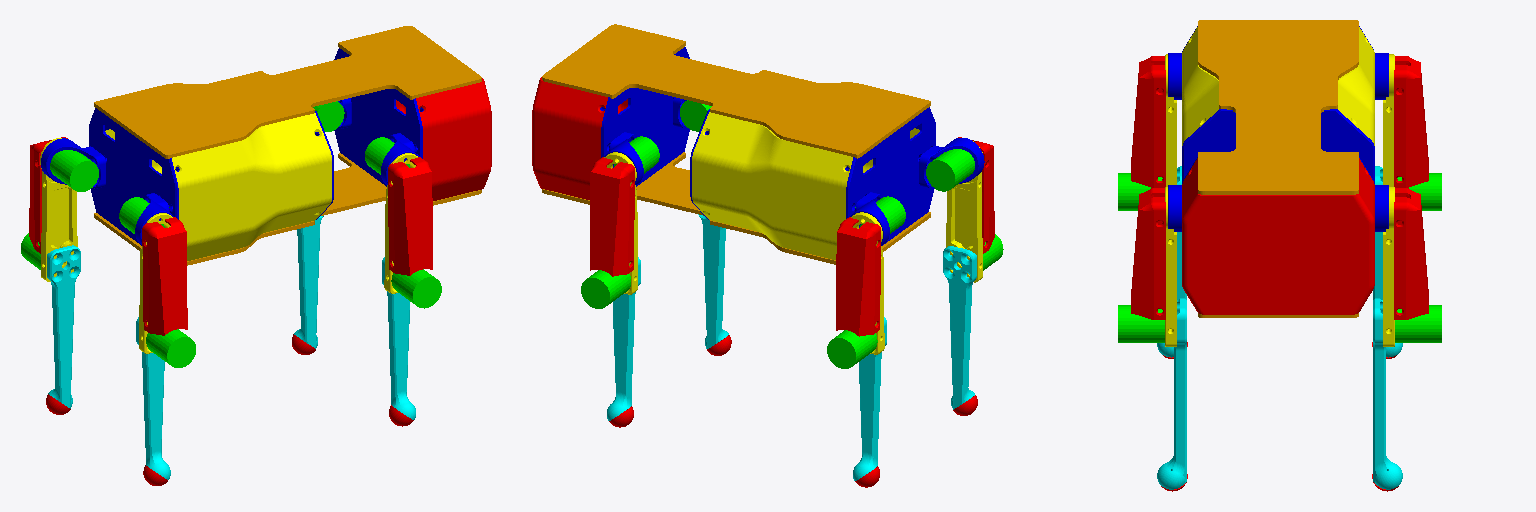
--- Facts derived from the render (not from the file) ---
3 views of the same robot in one strip: view 1: azimuth 30°, elevation 25°; view 2: azimuth 150°, elevation 25°; view 3: azimuth 270°, elevation 25° (orthographic).
Model pupper with 41 links and 40 joints (12 revolute, 28 fixed), rooted at bottom_PCB, posed all joints at 0.
Visible links, largest first — view 1: top_PCB, back_right_shroud, front_bulkhead, rear_bulkhead, back_right_cover, front_right_cover, middle_bulkhead_front, back_left_lower_link, bottom_PCB, back_left_upper_link, back_right_lower_link, front_right_lower_link (+13 smaller); view 2: top_PCB, back_left_shroud, front_bulkhead, rear_bulkhead, front_left_cover, back_left_cover, middle_bulkhead_front, back_right_lower_link, bottom_PCB, back_right_upper_link, front_left_lower_link, back_left_lower_link (+13 smaller); view 3: front_bulkhead, top_PCB, front_left_cover, front_right_cover, back_left_cover, back_right_cover, middle_bulkhead_rear, front_left_lower_link, front_right_lower_link, back_left_shroud, back_right_shroud, front_left_upper_link (+13 smaller).
Boxes of the visible links, bbox=[...] form: top_PCB: bbox=[94, 26, 481, 158]; back_right_shroud: bbox=[172, 113, 331, 260]; front_bulkhead: bbox=[396, 78, 491, 200]; rear_bulkhead: bbox=[89, 108, 179, 245]; back_right_cover: bbox=[142, 217, 187, 335]; front_right_cover: bbox=[388, 157, 432, 275]; middle_bulkhead_front: bbox=[334, 48, 423, 186]; back_left_lower_link: bbox=[47, 245, 80, 408]; bottom_PCB: bbox=[94, 153, 481, 265]; back_left_upper_link: bbox=[40, 138, 77, 281]; back_right_lower_link: bbox=[136, 317, 170, 479]; front_right_lower_link: bbox=[382, 257, 415, 419]; top_PCB: bbox=[542, 24, 930, 158]; back_left_shroud: bbox=[692, 112, 852, 259]; front_bulkhead: bbox=[532, 77, 627, 199]; rear_bulkhead: bbox=[845, 107, 935, 245]; front_left_cover: bbox=[590, 157, 634, 276]; back_left_cover: bbox=[836, 217, 880, 336]; middle_bulkhead_front: bbox=[600, 47, 689, 186]; back_right_lower_link: bbox=[943, 246, 976, 409]; bottom_PCB: bbox=[542, 152, 930, 264]; back_right_upper_link: bbox=[946, 141, 982, 282]; front_left_lower_link: bbox=[607, 257, 640, 420]; back_left_lower_link: bbox=[853, 317, 886, 480]; front_bulkhead: bbox=[1182, 158, 1374, 314]; top_PCB: bbox=[1198, 20, 1358, 194]; front_left_cover: bbox=[1394, 188, 1428, 319]; front_right_cover: bbox=[1131, 188, 1165, 319]; back_left_cover: bbox=[1394, 56, 1428, 187]; back_right_cover: bbox=[1131, 56, 1165, 187]; middle_bulkhead_rear: bbox=[1182, 109, 1374, 182]; front_left_lower_link: bbox=[1373, 298, 1402, 489]; front_right_lower_link: bbox=[1157, 298, 1186, 489]; back_left_shroud: bbox=[1338, 27, 1374, 145]; back_right_shroud: bbox=[1182, 27, 1218, 145]; front_left_upper_link: bbox=[1383, 187, 1394, 346].
Size in the robot's own frame: 0.2942 by 0.208 by 0.2472 metres.
Meshes: 14 distinct files referenced, 28 mesh visuals loaded (13 binary STL, 1 ASCII STL).

The robot description file, URDF, robot "pupper":
<?xml version="1.0" ?>
<!-- =================================================================================== -->
<!-- |    This document was autogenerated by xacro from pupper.urdf.xacro              | -->
<!-- |    EDITING THIS FILE BY HAND IS NOT RECOMMENDED                                 | -->
<!-- =================================================================================== -->
<robot name="pupper">
  <material name="red">
    <color rgba="1 0 0 1"/>
  </material>
  <material name="yellow">
    <color rgba="1 1 0 1"/>
  </material>
  <material name="blue">
    <color rgba="0 0 1 1"/>
  </material>
  <material name="green">
    <color rgba="0 1 0 1"/>
  </material>
  <material name="blueGreen">
    <color rgba="0 1 1 1"/>
  </material>
  <material name="pink">
    <color rgba="1 0 1 1"/>
  </material>
  <!-- Connect the plugin -->
  <gazebo>
    <plugin filename="libpupper_plugin.so" name="pupper_plugin"/>
  </gazebo>
  <!-- TODO: Get the correct mass and inertia on the feet -->
  <!-- ++++++++++++++++ -->
  <!-- ROBOT START HERE -->
  <!-- ++++++++++++++++ -->
  <!-- Base link of the robot -->
  <link name="bottom_PCB">
    <inertial>
      <mass value="0.024615598768704002"/>
      <inertia ixx="0.00016144503163729087" ixy="0.0" ixz="0.0" iyy="1.7324369411991874e-05" iyz="0.0" izz="0.0001787418708368233"/>
    </inertial>
    <visual name="bottom_PCB_visual">
      <geometry>
        <mesh filename="package://workstation/pupper_description/Pupper_STL/Body/PCB_Board.stl" scale="0.0254 0.0254 0.0254"/>
      </geometry>
    </visual>
    <collision name="bottom_PCB_collision">
      <geometry>
        <mesh filename="package://workstation/pupper_description/Pupper_STL/Body/PCB_Board.stl" scale="0.0254 0.0254 0.0254"/>
      </geometry>
    </collision>
  </link>
  <!-- Create Front bulkhead -->
  <link name="front_bulkhead">
    <inertial>
      <mass value="0.010506396000000001"/>
      <inertia ixx="1.022692356e-05" ixy="0.0" ixz="0.0" iyy="2.7748515648000003e-05" iyz="0.0" izz="3.1221326112000005e-05"/>
    </inertial>
    <visual>
      <material name="red"/>
      <geometry>
        <mesh filename="package://workstation/pupper_description/Pupper_STL/Body/part1_frontbulkhead.stl" scale="0.001 0.001 0.001"/>
      </geometry>
    </visual>
    <collision>
      <geometry>
        <mesh filename="package://workstation/pupper_description/Pupper_STL/Body/part1_frontbulkhead_simplified.dae" scale="0.001 0.001 0.001"/>
      </geometry>
    </collision>
  </link>
  <!-- Join Front Bulkhead with Base -->
  <joint name="front_bulkhead_to_base" type="fixed">
    <parent link="bottom_PCB"/>
    <child link="front_bulkhead"/>
    <origin rpy="1.570796326795 0 1.570796326795" xyz="-0.128 0.00 0.044"/>
  </joint>
  <!-- Create Middle Bulkhead -->
  <link name="middle_bulkhead_front">
    <inertial>
      <mass value="0.012366396"/>
      <inertia ixx="8.554681632e-06" ixy="0.0" ixz="0.0" iyy="1.897506528e-05" iyz="0.0" izz="2.7393755616000004e-05"/>
    </inertial>
    <visual name="middle_bulkhead_front_visual">
      <material name="blue"/>
      <geometry>
        <mesh filename="package://workstation/pupper_description/Pupper_STL/Body/part2_middlebulkhead1.stl" scale="0.001 0.001 0.001"/>
      </geometry>
    </visual>
    <collision name="middle_bulkhead_front_collision">
      <geometry>
        <mesh filename="package://workstation/pupper_description/Pupper_STL/Body/part2_middlebulkhead1_simplified.dae" scale="0.001 0.001 0.001"/>
      </geometry>
    </collision>
  </link>
  <!-- Join Middle Bulkhead to Base -->
  <joint name="middle_bulkhead_to_base_1" type="fixed">
    <parent link="bottom_PCB"/>
    <child link="middle_bulkhead_front"/>
    <origin rpy="1.570796326795 0 1.570796326795" xyz="-0.128 0.00 0.044"/>
  </joint>
  <!-- Create 2nd Middle Bulkhead -->
  <link name="middle_bulkhead_rear">
    <inertial>
      <mass value="0.012373464"/>
      <inertia ixx="8.15128632e-06" ixy="0.0" ixz="0.0" iyy="1.5096884928e-05" iyz="0.0" izz="2.3080296576e-05"/>
    </inertial>
    <visual name="middle_bulkhead_rear_visual">
      <material name="blue"/>
      <geometry>
        <mesh filename="package://workstation/pupper_description/Pupper_STL/Body/part3_middlebulkhead2.stl" scale="0.001 0.001 0.001"/>
      </geometry>
    </visual>
    <collision name="middle_bulkhead_rear_collision">
      <geometry>
        <mesh filename="package://workstation/pupper_description/Pupper_STL/Body/part3_middlebulkhead2_simplified.dae" scale="0.001 0.001 0.001"/>
      </geometry>
    </collision>
  </link>
  <!-- Join 2nd Bulkhead to Base -->
  <joint name="middle_bulkhead_to_base_2" type="fixed">
    <parent link="bottom_PCB"/>
    <child link="middle_bulkhead_rear"/>
    <origin rpy="1.570796326795 0 1.570796326795" xyz="-0.128 0.00 0.044"/>
  </joint>
  <!-- Create back right shroud -->
  <link name="back_right_shroud">
    <inertial>
      <mass value="0.0058404"/>
      <inertia ixx="1.1398658832000001e-05" ixy="0.0" ixz="0.0" iyy="7.916366832000001e-06" iyz="0.0" izz="3.9777933960000005e-06"/>
    </inertial>
    <visual name="back_right_shroud_visual">
      <material name="yellow"/>
      <geometry>
        <mesh filename="package://workstation/pupper_description/Pupper_STL/Body/part4_rightshroud.stl" scale="0.001 0.001 0.001"/>
      </geometry>
    </visual>
    <collision name="back_right_shroud_collision">
      <geometry>
        <mesh filename="package://workstation/pupper_description/Pupper_STL/Body/part4_rightshroud_simplified.dae" scale="0.001 0.001 0.001"/>
      </geometry>
    </collision>
  </link>
  <!-- Connect back right shroud to body -->
  <joint name="right_shroud_to_base" type="fixed">
    <parent link="bottom_PCB"/>
    <child link="back_right_shroud"/>
    <origin rpy="1.570796326795 0 1.570796326795" xyz="-0.128 0.00 0.044"/>
  </joint>
  <!-- Create back left shroud -->
  <link name="back_left_shroud">
    <inertial>
      <mass value="0.0058404"/>
      <inertia ixx="1.1398638744e-05" ixy="0.0" ixz="0.0" iyy="7.916371296e-06" iyz="0.0" izz="3.9777736800000005e-06"/>
    </inertial>
    <visual name="back_left_shroud_visual">
      <material name="yellow"/>
      <geometry>
        <mesh filename="package://workstation/pupper_description/Pupper_STL/Body/part5_leftshroud.stl" scale="0.001 0.001 0.001"/>
      </geometry>
    </visual>
    <collision name="back_left_shroud_collision">
      <material name="green"/>
      <geometry>
        <mesh filename="package://workstation/pupper_description/Pupper_STL/Body/part5_leftshroud_simplified.dae" scale="0.001 0.001 0.001"/>
      </geometry>
    </collision>
  </link>
  <!-- Join back left shroud to body -->
  <joint name="back_left_shroud_to_base" type="fixed">
    <parent link="bottom_PCB"/>
    <child link="back_left_shroud"/>
    <origin rpy="1.570796326795 0 1.570796326795" xyz="-0.128 0.00 0.044"/>
  </joint>
  <!-- Create rear bulkhead -->
  <link name="rear_bulkhead">
    <inertial>
      <mass value="0.012549792"/>
      <inertia ixx="8.688962472000001e-06" ixy="0.0" ixz="0.0" iyy="1.9400512752000002e-05" iyz="-6.655824e-09" izz="2.7950330112000003e-05"/>
    </inertial>
    <visual>
      <material name="blue"/>
      <geometry>
        <mesh filename="package://workstation/pupper_description/Pupper_STL/Body/part6_rearbulkhead.stl" scale="0.001 0.001 0.001"/>
      </geometry>
    </visual>
    <collision>
      <geometry>
        <mesh filename="package://workstation/pupper_description/Pupper_STL/Body/part6_rearbulkhead_simplified.dae" scale="0.001 0.001 0.001"/>
      </geometry>
    </collision>
  </link>
  <!-- Join rear bulkhead to body -->
  <joint name="rear_bulk_head_to_body" type="fixed">
    <parent link="bottom_PCB"/>
    <child link="rear_bulkhead"/>
    <origin rpy="1.570796326795 0 1.570796326795" xyz="-0.128 0.00 0.044"/>
  </joint>
  <!-- Create a bulk mass for the battery -->
  <link name="battery">
    <inertial>
      <mass value="0.228"/>
      <inertia ixx="6.796775e-05" ixy="0" ixz="0" iyy="0.00013779275" iyz="0" izz="0.00011637500000000002"/>
    </inertial>
    <visual name="battery_visual">
      <material name="pink"/>
      <geometry>
        <box size="0.07 0.035 0.0485"/>
      </geometry>
    </visual>
  </link>
  <!-- Connect battery to body -->
  <joint name="battery_to_body" type="fixed">
    <parent link="bottom_PCB"/>
    <child link="battery"/>
    <origin rpy="0 0 1.570796326795" xyz="-0.028 0.00 0.02425"/>
  </joint>
  <!-- Create top plate -->
  <link name="top_PCB">
    <inertial>
      <mass value="0.024615598768704002"/>
      <inertia ixx="0.00016144503163729087" ixy="0.0" ixz="0.0" iyy="1.7324369411991874e-05" iyz="0.0" izz="0.0001787418708368233"/>
    </inertial>
    <visual name="top_PCB_visual">
      <geometry>
        <mesh filename="package://workstation/pupper_description/Pupper_STL/Body/PCB_Board.stl" scale="0.0254 0.0254 0.0254"/>
      </geometry>
    </visual>
    <collision name="top_PCB_collision">
      <geometry>
        <mesh filename="package://workstation/pupper_description/Pupper_STL/Body/PCB_Board.stl" scale="0.0254 0.0254 0.0254"/>
      </geometry>
    </collision>
  </link>
  <!-- Joint top plate to body -->
  <joint name="top_PCB_to_base" type="fixed">
    <parent link="bottom_PCB"/>
    <child link="top_PCB"/>
    <origin rpy="0 0 0" xyz="0.00 0.00 0.087"/>
  </joint>
  <link name="front_left_hub">
    <inertial>
      <mass value="0.0026397120000000002"/>
      <inertia ixx="5.418957480000001e-07" ixy="0.0" ixz="1.6616942400000001e-07" iyy="5.47751772e-07" iyz="0.0" izz="4.2993230400000003e-07"/>
    </inertial>
    <visual name="front_left_hub_visual">
      <material name="blue"/>
      <geometry>
        <mesh filename="package://workstation/pupper_description/Pupper_STL/Leg/part1_hub.stl" scale="0.001 0.001 0.001"/>
      </geometry>
    </visual>
    <collision name="front_left_hub_collision">
      <geometry>
        <mesh filename="package://workstation/pupper_description/Pupper_STL/Leg/part1_hub_siplified.dae" scale="0.001 0.001 0.001"/>
      </geometry>
    </collision>
  </link>
  <link name="front_left_upper_link">
    <inertial>
      <mass value="0.005135088"/>
      <inertia ixx="5.2268046e-06" ixy="5.8305420000000006e-08" ixz="0.0" iyy="3.56244684e-07" iyz="0.0" izz="4.920666084e-06"/>
    </inertial>
    <visual name="front_left_upper_link_visual">
      <material name="yellow"/>
      <geometry>
        <mesh filename="package://workstation/pupper_description/Pupper_STL/Leg/part2_upperlink.stl" scale="0.001 0.001 0.001"/>
      </geometry>
    </visual>
    <collision name="front_left_upper_link_collision">
      <geometry>
        <mesh filename="package://workstation/pupper_description/Pupper_STL/Leg/part2_upperlink_simplified.dae" scale="0.001 0.001 0.001"/>
      </geometry>
    </collision>
  </link>
  <link name="front_left_cover">
    <inertial>
      <mass value="0.0023860080000000002"/>
      <inertia ixx="1.5880408440000002e-06" ixy="6.3907368e-08" ixz="2.604e-13" iyy="3.6889826400000003e-07" iyz="-8.928e-12" izz="1.4238727800000002e-06"/>
    </inertial>
    <visual name="front_left_cover_visual">
      <material name="red"/>
      <geometry>
        <mesh filename="package://workstation/pupper_description/Pupper_STL/Leg/part3_shroud.stl" scale="0.001 0.001 0.001"/>
      </geometry>
    </visual>
    <collision name="front_left_cover_collision">
      <geometry>
        <mesh filename="package://workstation/pupper_description/Pupper_STL/Leg/part3_shroud_simplified.dae" scale="0.001 0.001 0.001"/>
      </geometry>
    </collision>
  </link>
  <!-- Connect the covering to the upper link -->
  <joint name="front_left_shroud_to_leg" type="fixed">
    <parent link="front_left_upper_link"/>
    <child link="front_left_cover"/>
    <origin rpy="3.14159265359 0 0" xyz="0.007 0.085 0"/>
  </joint>
  <link name="front_left_lower_link">
    <inertial>
      <mass value="0.00489924"/>
      <inertia ixx="6.752526888e-06" ixy="-8.876552400000001e-08" ixz="7.420284000000001e-09" iyy="1.6278868800000002e-07" iyz="2.5021129200000004e-07" izz="6.810224088000001e-06"/>
    </inertial>
    <visual>
      <material name="blueGreen"/>
      <geometry>
        <mesh filename="package://workstation/pupper_description/Pupper_STL/Leg/part4_lowerlink.stl" scale="0.001 0.001 0.001"/>
      </geometry>
    </visual>
    <collision name="front_left_lower_link_collision">
      <geometry>
        <mesh filename="package://workstation/pupper_description/Pupper_STL/Leg/part4_lowerlink_simplified.dae" scale="0.001 0.001 0.001"/>
      </geometry>
    </collision>
  </link>
  <!-- Create the foot pad -->
  <link name="front_left_foot">
    <inertial>
      <mass value="0.003"/>
      <inertia ixx="1.0830000000000001e-07" ixy="0" ixz="0" iyy="1.0830000000000001e-07" iyz="0" izz="1.0830000000000001e-07"/>
    </inertial>
    <visual name="front_left_foot_visual">
      <material name="red"/>
      <geometry>
        <mesh filename="package://workstation/pupper_description/Pupper_STL/Leg/hemisphere.stl" scale="0.00026 0.00026 0.00026"/>
      </geometry>
    </visual>
    <collision name="front_left_foot_collision">
      <geometry>
        <mesh filename="package://workstation/pupper_description/Pupper_STL/Leg/hemisphere_simplified.dae" scale="0.00026 0.00026 0.00026"/>
      </geometry>
    </collision>
  </link>
  <gazebo reference="front_left_foot">
    <collision>
      <surface>
        <contact>
          <ode>
            <kp>1e15</kp>
            <kd>1e13</kd>
          </ode>
        </contact>
      </surface>
    </collision>
  </gazebo>
  <gazebo reference="front_left_lower_link">
    <collision>
      <surface>
        <contact>
          <ode>
            <min_depth>0.01</min_depth>
          </ode>
        </contact>
      </surface>
    </collision>
  </gazebo>
  <!-- Connect foot pad to lower link -->
  <joint name="front_left_foot_joint" type="fixed">
    <parent link="front_left_lower_link"/>
    <child link="front_left_foot"/>
    <origin rpy="1.570796326795 0 0.6853981633975" xyz="0 -0.11 0.009"/>
  </joint>
  <!-- kg -->
  <!-- Create the motor -->
  <link name="front_left_hip_motor">
    <inertial>
      <mass value="0.12"/>
      <inertia ixx="7.2e-6" ixy="0" ixz="0" iyy="1.11e-5" iyz="0" izz="1.11e-5"/>
    </inertial>
    <visual name="front_left_hip_visual">
      <material name="motorColor">
        <color rgba="0 1 0 1"/>
      </material>
      <geometry>
        <cylinder length="0.03" radius="0.012"/>
      </geometry>
    </visual>
    <collision name="front_left_hip_collision">
      <geometry>
        <cylinder length="0.03" radius="0.012"/>
      </geometry>
    </collision>
  </link>
  <!-- Rigidly attach to motor to it's parent -->
  <joint name="front_left_hip_fixed_joint" type="fixed">
    <parent link="bottom_PCB"/>
    <child link="front_left_hip_motor"/>
    <origin rpy="0 1.570796326795 0" xyz="0.091 0.045 0.041"/>
  </joint>
  <!-- Attach the child link through a revolute joint -->
  <joint name="front_left_hip_joint" type="revolute">
    <parent link="bottom_PCB"/>
    <!-- <parent link = "${name}_motor"/> -->
    <child link="front_left_hub"/>
    <origin rpy="-1.570796326795 0 0" xyz="0.054 0.045 0.041"/>
    <limit effort="1e6" lower="-1e10" upper="1e10" velocity="1e6"/>
    <dynamics damping="0.2" friction="0.3"/>
    <axis xyz="-1 0 0"/>
  </joint>
  <!-- implicitSpringDamper: prevent crashing when damping is set -->
  <!-- provideFeedback     : allows the joint to publish torque data -->
  <gazebo reference="front_left_hip_joint">
    <physics>
      <ode>
        <max_force>50</max_force>
      </ode>
    </physics>
    <provideFeedback>true</provideFeedback>
    <implicitSpringDamper>true</implicitSpringDamper>
  </gazebo>
  <gazebo reference="front_left_hub">
    <self_collide>false</self_collide>
  </gazebo>
  <!-- kg -->
  <!-- Create the motor -->
  <link name="front_left_shoulder_motor">
    <inertial>
      <mass value="0.12"/>
      <inertia ixx="7.2e-6" ixy="0" ixz="0" iyy="1.11e-5" iyz="0" izz="1.11e-5"/>
    </inertial>
    <visual name="front_left_shoulder_visual">
      <material name="motorColor">
        <color rgba="0 1 0 1"/>
      </material>
      <geometry>
        <cylinder length="0.03" radius="0.012"/>
      </geometry>
    </visual>
    <collision name="front_left_shoulder_collision">
      <geometry>
        <cylinder length="0.03" radius="0.012"/>
      </geometry>
    </collision>
  </link>
  <!-- Rigidly attach to motor to it's parent -->
  <joint name="front_left_shoulder_fixed_joint" type="fixed">
    <parent link="front_left_hub"/>
    <child link="front_left_shoulder_motor"/>
    <origin rpy="0 0 0" xyz="0 0 0.005"/>
  </joint>
  <!-- Attach the child link through a revolute joint -->
  <joint name="front_left_shoulder_joint" type="revolute">
    <parent link="front_left_hub"/>
    <!-- <parent link = "${name}_motor"/> -->
    <child link="front_left_upper_link"/>
    <origin rpy="0 -1.570796326795 0" xyz="0 0 0.022"/>
    <limit effort="1e6" lower="-1e10" upper="1e10" velocity="1e6"/>
    <dynamics damping="0.2" friction="0.3"/>
    <axis xyz="1 0 0"/>
  </joint>
  <!-- implicitSpringDamper: prevent crashing when damping is set -->
  <!-- provideFeedback     : allows the joint to publish torque data -->
  <gazebo reference="front_left_shoulder_joint">
    <physics>
      <ode>
        <max_force>50</max_force>
      </ode>
    </physics>
    <provideFeedback>true</provideFeedback>
    <implicitSpringDamper>true</implicitSpringDamper>
  </gazebo>
  <gazebo reference="front_left_upper_link">
    <self_collide>false</self_collide>
  </gazebo>
  <!-- kg -->
  <!-- Create the motor -->
  <link name="front_left_elbow_motor">
    <inertial>
      <mass value="0.12"/>
      <inertia ixx="7.2e-6" ixy="0" ixz="0" iyy="1.11e-5" iyz="0" izz="1.11e-5"/>
    </inertial>
    <visual name="front_left_elbow_visual">
      <material name="motorColor">
        <color rgba="0 1 0 1"/>
      </material>
      <geometry>
        <cylinder length="0.03" radius="0.012"/>
      </geometry>
    </visual>
    <collision name="front_left_elbow_collision">
      <geometry>
        <cylinder length="0.03" radius="0.012"/>
      </geometry>
    </collision>
  </link>
  <!-- Rigidly attach to motor to it's parent -->
  <joint name="front_left_elbow_fixed_joint" type="fixed">
    <parent link="front_left_upper_link"/>
    <child link="front_left_elbow_motor"/>
    <origin rpy="0 1.570796326795 0" xyz="0.023 0.082 0"/>
  </joint>
  <!-- Attach the child link through a revolute joint -->
  <joint name="front_left_elbow_joint" type="revolute">
    <parent link="front_left_upper_link"/>
    <!-- <parent link = "${name}_motor"/> -->
    <child link="front_left_lower_link"/>
    <origin rpy="0 -1.570796326795 3.14159265359" xyz="-0.006 0.08 0"/>
    <limit effort="1e6" lower="-1e10" upper="1e10" velocity="1e6"/>
    <dynamics damping="0.2" friction="0.3"/>
    <axis xyz="0 0 -1"/>
  </joint>
  <!-- implicitSpringDamper: prevent crashing when damping is set -->
  <!-- provideFeedback     : allows the joint to publish torque data -->
  <gazebo reference="front_left_elbow_joint">
    <physics>
      <ode>
        <max_force>50</max_force>
      </ode>
    </physics>
    <provideFeedback>true</provideFeedback>
    <implicitSpringDamper>true</implicitSpringDamper>
  </gazebo>
  <gazebo reference="front_left_lower_link">
    <self_collide>false</self_collide>
  </gazebo>
  <link name="back_left_hub">
    <inertial>
      <mass value="0.0026397120000000002"/>
      <inertia ixx="5.418957480000001e-07" ixy="0.0" ixz="1.6616942400000001e-07" iyy="5.47751772e-07" iyz="0.0" izz="4.2993230400000003e-07"/>
    </inertial>
    <visual name="back_left_hub_visual">
      <material name="blue"/>
      <geometry>
        <mesh filename="package://workstation/pupper_description/Pupper_STL/Leg/part1_hub.stl" scale="0.001 0.001 0.001"/>
      </geometry>
    </visual>
    <collision name="back_left_hub_collision">
      <geometry>
        <mesh filename="package://workstation/pupper_description/Pupper_STL/Leg/part1_hub_siplified.dae" scale="0.001 0.001 0.001"/>
      </geometry>
    </collision>
  </link>
  <link name="back_left_upper_link">
    <inertial>
      <mass value="0.005135088"/>
      <inertia ixx="5.2268046e-06" ixy="5.8305420000000006e-08" ixz="0.0" iyy="3.56244684e-07" iyz="0.0" izz="4.920666084e-06"/>
    </inertial>
    <visual name="back_left_upper_link_visual">
      <material name="yellow"/>
      <geometry>
        <mesh filename="package://workstation/pupper_description/Pupper_STL/Leg/part2_upperlink.stl" scale="0.001 0.001 0.001"/>
      </geometry>
    </visual>
    <collision name="back_left_upper_link_collision">
      <geometry>
        <mesh filename="package://workstation/pupper_description/Pupper_STL/Leg/part2_upperlink_simplified.dae" scale="0.001 0.001 0.001"/>
      </geometry>
    </collision>
  </link>
  <link name="back_left_cover">
    <inertial>
      <mass value="0.0023860080000000002"/>
      <inertia ixx="1.5880408440000002e-06" ixy="6.3907368e-08" ixz="2.604e-13" iyy="3.6889826400000003e-07" iyz="-8.928e-12" izz="1.4238727800000002e-06"/>
    </inertial>
    <visual name="back_left_cover_visual">
      <material name="red"/>
      <geometry>
        <mesh filename="package://workstation/pupper_description/Pupper_STL/Leg/part3_shroud.stl" scale="0.001 0.001 0.001"/>
      </geometry>
    </visual>
    <collision name="back_left_cover_collision">
      <geometry>
        <mesh filename="package://workstation/pupper_description/Pupper_STL/Leg/part3_shroud_simplified.dae" scale="0.001 0.001 0.001"/>
      </geometry>
    </collision>
  </link>
  <!-- Connect the covering to the upper link -->
  <joint name="back_left_shroud_to_leg" type="fixed">
    <parent link="back_left_upper_link"/>
    <child link="back_left_cover"/>
    <origin rpy="3.14159265359 0 0" xyz="0.007 0.085 0"/>
  </joint>
  <link name="back_left_lower_link">
    <inertial>
      <mass value="0.00489924"/>
      <inertia ixx="6.752526888e-06" ixy="-8.876552400000001e-08" ixz="7.420284000000001e-09" iyy="1.6278868800000002e-07" iyz="2.5021129200000004e-07" izz="6.810224088000001e-06"/>
    </inertial>
    <visual>
      <material name="blueGreen"/>
      <geometry>
        <mesh filename="package://workstation/pupper_description/Pupper_STL/Leg/part4_lowerlink.stl" scale="0.001 0.001 0.001"/>
      </geometry>
    </visual>
    <collision name="back_left_lower_link_collision">
      <geometry>
        <mesh filename="package://workstation/pupper_description/Pupper_STL/Leg/part4_lowerlink_simplified.dae" scale="0.001 0.001 0.001"/>
      </geometry>
    </collision>
  </link>
  <!-- Create the foot pad -->
  <link name="back_left_foot">
    <inertial>
      <mass value="0.003"/>
      <inertia ixx="1.0830000000000001e-07" ixy="0" ixz="0" iyy="1.0830000000000001e-07" iyz="0" izz="1.0830000000000001e-07"/>
    </inertial>
    <visual name="back_left_foot_visual">
      <material name="red"/>
      <geometry>
        <mesh filename="package://workstation/pupper_description/Pupper_STL/Leg/hemisphere.stl" scale="0.00026 0.00026 0.00026"/>
      </geometry>
    </visual>
    <collision name="back_left_foot_collision">
      <geometry>
        <mesh filename="package://workstation/pupper_description/Pupper_STL/Leg/hemisphere_simplified.dae" scale="0.00026 0.00026 0.00026"/>
      </geometry>
    </collision>
  </link>
  <gazebo reference="back_left_foot">
    <collision>
      <surface>
        <contact>
          <ode>
            <kp>1e15</kp>
            <kd>1e13</kd>
          </ode>
        </contact>
      </surface>
    </collision>
  </gazebo>
  <gazebo reference="back_left_lower_link">
    <collision>
      <surface>
        <contact>
          <ode>
            <min_depth>0.01</min_depth>
          </ode>
        </contact>
      </surface>
    </collision>
  </gazebo>
  <!-- Connect foot pad to lower link -->
  <joint name="back_left_foot_joint" type="fixed">
    <parent link="back_left_lower_link"/>
    <child link="back_left_foot"/>
    <origin rpy="1.570796326795 0 0.6853981633975" xyz="0 -0.11 0.009"/>
  </joint>
  <!-- kg -->
  <!-- Create the motor -->
  <link name="back_left_hip_motor">
    <inertial>
      <mass value="0.12"/>
      <inertia ixx="7.2e-6" ixy="0" ixz="0" iyy="1.11e-5" iyz="0" izz="1.11e-5"/>
    </inertial>
    <visual name="back_left_hip_visual">
      <material name="motorColor">
        <color rgba="0 1 0 1"/>
      </material>
      <geometry>
        <cylinder length="0.03" radius="0.012"/>
      </geometry>
    </visual>
    <collision name="back_left_hip_collision">
      <geometry>
        <cylinder length="0.03" radius="0.012"/>
      </geometry>
    </collision>
  </link>
  <!-- Rigidly attach to motor to it's parent -->
  <joint name="back_left_hip_fixed_joint" type="fixed">
    <parent link="bottom_PCB"/>
    <child link="back_left_hip_motor"/>
    <origin rpy="0 1.570796326795 0" xyz="-0.110 0.045 0.041"/>
  </joint>
  <!-- Attach the child link through a revolute joint -->
  <joint name="back_left_hip_joint" type="revolute">
    <parent link="bottom_PCB"/>
    <!-- <parent link = "${name}_motor"/> -->
    <child link="back_left_hub"/>
    <origin rpy="-1.570796326795 0 0" xyz="-0.147 0.045 0.041"/>
    <limit effort="1e6" lower="-1e10" upper="1e10" velocity="1e6"/>
    <dynamics damping="0.2" friction="0.3"/>
    <axis xyz="-1 0 0"/>
  </joint>
  <!-- implicitSpringDamper: prevent crashing when damping is set -->
  <!-- provideFeedback     : allows the joint to publish torque data -->
  <gazebo reference="back_left_hip_joint">
    <physics>
      <ode>
        <max_force>50</max_force>
      </ode>
    </physics>
    <provideFeedback>true</provideFeedback>
    <implicitSpringDamper>true</implicitSpringDamper>
  </gazebo>
  <gazebo reference="back_left_hub">
    <self_collide>false</self_collide>
  </gazebo>
  <!-- kg -->
  <!-- Create the motor -->
  <link name="back_left_shoulder_motor">
    <inertial>
      <mass value="0.12"/>
      <inertia ixx="7.2e-6" ixy="0" ixz="0" iyy="1.11e-5" iyz="0" izz="1.11e-5"/>
    </inertial>
    <visual name="back_left_shoulder_visual">
      <material name="motorColor">
        <color rgba="0 1 0 1"/>
      </material>
      <geometry>
        <cylinder length="0.03" radius="0.012"/>
      </geometry>
    </visual>
    <collision name="back_left_shoulder_collision">
      <geometry>
        <cylinder length="0.03" radius="0.012"/>
      </geometry>
    </collision>
  </link>
  <!-- Rigidly attach to motor to it's parent -->
  <joint name="back_left_shoulder_fixed_joint" type="fixed">
    <parent link="back_left_hub"/>
    <child link="back_left_shoulder_motor"/>
    <origin rpy="0 0 0" xyz="0 0 0.005"/>
  </joint>
  <!-- Attach the child link through a revolute joint -->
  <joint name="back_left_shoulder_joint" type="revolute">
    <parent link="back_left_hub"/>
    <!-- <parent link = "${name}_motor"/> -->
    <child link="back_left_upper_link"/>
    <origin rpy="0 -1.570796326795 0" xyz="0 0 0.022"/>
    <limit effort="1e6" lower="-1e10" upper="1e10" velocity="1e6"/>
    <dynamics damping="0.2" friction="0.3"/>
    <axis xyz="1 0 0"/>
  </joint>
  <!-- implicitSpringDamper: prevent crashing when damping is set -->
  <!-- provideFeedback     : allows the joint to publish torque data -->
  <gazebo reference="back_left_shoulder_joint">
    <physics>
      <ode>
        <max_force>50</max_force>
      </ode>
    </physics>
    <provideFeedback>true</provideFeedback>
    <implicitSpringDamper>true</implicitSpringDamper>
  </gazebo>
  <gazebo reference="back_left_upper_link">
    <self_collide>false</self_collide>
  </gazebo>
  <!-- kg -->
  <!-- Create the motor -->
  <link name="back_left_elbow_motor">
    <inertial>
      <mass value="0.12"/>
      <inertia ixx="7.2e-6" ixy="0" ixz="0" iyy="1.11e-5" iyz="0" izz="1.11e-5"/>
    </inertial>
    <visual name="back_left_elbow_visual">
      <material name="motorColor">
        <color rgba="0 1 0 1"/>
      </material>
      <geometry>
        <cylinder length="0.03" radius="0.012"/>
      </geometry>
    </visual>
    <collision name="back_left_elbow_collision">
      <geometry>
        <cylinder length="0.03" radius="0.012"/>
      </geometry>
    </collision>
  </link>
  <!-- Rigidly attach to motor to it's parent -->
  <joint name="back_left_elbow_fixed_joint" type="fixed">
    <parent link="back_left_upper_link"/>
    <child link="back_left_elbow_motor"/>
    <origin rpy="0 1.570796326795 0" xyz="0.023 0.082 0"/>
  </joint>
  <!-- Attach the child link through a revolute joint -->
  <joint name="back_left_elbow_joint" type="revolute">
    <parent link="back_left_upper_link"/>
    <!-- <parent link = "${name}_motor"/> -->
    <child link="back_left_lower_link"/>
    <origin rpy="0 -1.570796326795 3.14159265359" xyz="-0.006 0.08 0"/>
    <limit effort="1e6" lower="-1e10" upper="1e10" velocity="1e6"/>
    <dynamics damping="0.2" friction="0.3"/>
    <axis xyz="0 0 -1"/>
  </joint>
  <!-- implicitSpringDamper: prevent crashing when damping is set -->
  <!-- provideFeedback     : allows the joint to publish torque data -->
  <gazebo reference="back_left_elbow_joint">
    <physics>
      <ode>
        <max_force>50</max_force>
      </ode>
    </physics>
    <provideFeedback>true</provideFeedback>
    <implicitSpringDamper>true</implicitSpringDamper>
  </gazebo>
  <gazebo reference="back_left_lower_link">
    <self_collide>false</self_collide>
  </gazebo>
  <link name="front_right_hub">
    <inertial>
      <mass value="0.0026397120000000002"/>
      <inertia ixx="5.418957480000001e-07" ixy="0.0" ixz="-1.6616942400000001e-07" iyy="5.47751772e-07" iyz="0.0" izz="4.2993230400000003e-07"/>
    </inertial>
    <visual name="front_right_hub_visual">
      <material name="blue"/>
      <geometry>
        <mesh filename="package://workstation/pupper_description/Pupper_STL/Leg/part1_hub_mirrored.stl" scale="0.001 0.001 0.001"/>
      </geometry>
    </visual>
    <collision name="front_right_hub_collision">
      <geometry>
        <mesh filename="package://workstation/pupper_description/Pupper_STL/Leg/part1_hub_mirrored_simplified.dae" scale="0.001 0.001 0.001"/>
      </geometry>
    </collision>
  </link>
  <link name="front_right_upper_link">
    <inertial>
      <mass value="0.005135088"/>
      <inertia ixx="5.2268046e-06" ixy="5.8305420000000006e-08" ixz="0.0" iyy="3.56244684e-07" iyz="0.0" izz="4.920666084e-06"/>
    </inertial>
    <visual name="front_right_upper_link_visual">
      <material name="yellow"/>
      <geometry>
        <mesh filename="package://workstation/pupper_description/Pupper_STL/Leg/part2_upperlink.stl" scale="0.001 0.001 0.001"/>
      </geometry>
    </visual>
    <collision name="front_right_upper_link_collision">
      <geometry>
        <mesh filename="package://workstation/pupper_description/Pupper_STL/Leg/part2_upperlink_simplified.dae" scale="0.001 0.001 0.001"/>
      </geometry>
    </collision>
  </link>
  <link name="front_right_cover">
    <inertial>
      <mass value="0.0023860080000000002"/>
      <inertia ixx="1.5880408440000002e-06" ixy="6.3907368e-08" ixz="2.604e-13" iyy="3.6889826400000003e-07" iyz="-8.928e-12" izz="1.4238727800000002e-06"/>
    </inertial>
    <visual name="front_right_cover_visual">
      <material name="red"/>
      <geometry>
        <mesh filename="package://workstation/pupper_description/Pupper_STL/Leg/part3_shroud.stl" scale="0.001 0.001 0.001"/>
      </geometry>
    </visual>
    <collision name="front_right_cover_collision">
      <geometry>
        <mesh filename="package://workstation/pupper_description/Pupper_STL/Leg/part3_shroud_simplified.dae" scale="0.001 0.001 0.001"/>
      </geometry>
    </collision>
  </link>
  <!-- Connect the covering to the upper link -->
  <joint name="front_right_shroud_to_leg" type="fixed">
    <parent link="front_right_upper_link"/>
    <child link="front_right_cover"/>
    <origin rpy="3.14159265359 0 0" xyz="0.007 0.085 0"/>
  </joint>
  <link name="front_right_lower_link">
    <inertial>
      <mass value="0.00489924"/>
      <inertia ixx="6.752526888e-06" ixy="-8.876552400000001e-08" ixz="-7.420284000000001e-09" iyy="1.6278868800000002e-07" iyz="-2.5021129200000004e-07" izz="6.810224088000001e-06"/>
    </inertial>
    <visual>
      <material name="blueGreen"/>
      <geometry>
        <mesh filename="package://workstation/pupper_description/Pupper_STL/Leg/part4_lowerlink_mirrored.stl" scale="0.001 0.001 0.001"/>
      </geometry>
    </visual>
    <collision name="front_right_lower_link_collision">
      <geometry>
        <mesh filename="package://workstation/pupper_description/Pupper_STL/Leg/part4_lowerlink_mirrored_simplified.dae" scale="0.001 0.001 0.001"/>
      </geometry>
    </collision>
  </link>
  <!-- Create the foot pad -->
  <link name="front_right_foot">
    <inertial>
      <mass value="0.003"/>
      <inertia ixx="1.0830000000000001e-07" ixy="0" ixz="0" iyy="1.0830000000000001e-07" iyz="0" izz="1.0830000000000001e-07"/>
    </inertial>
    <visual name="front_right_foot_visual">
      <material name="red"/>
      <geometry>
        <mesh filename="package://workstation/pupper_description/Pupper_STL/Leg/hemisphere.stl" scale="0.00026 0.00026 0.00026"/>
      </geometry>
    </visual>
    <collision name="front_right_foot_collision">
      <geometry>
        <mesh filename="package://workstation/pupper_description/Pupper_STL/Leg/hemisphere_simplified.dae" scale="0.00026 0.00026 0.00026"/>
      </geometry>
    </collision>
  </link>
  <gazebo reference="front_right_foot">
    <collision>
      <surface>
        <contact>
          <ode>
            <kp>1e15</kp>
            <kd>1e13</kd>
          </ode>
        </contact>
      </surface>
    </collision>
  </gazebo>
  <gazebo reference="front_right_lower_link">
    <collision>
      <surface>
        <contact>
          <ode>
            <min_depth>0.01</min_depth>
          </ode>
        </contact>
      </surface>
    </collision>
  </gazebo>
  <!-- Connect foot pad to lower link -->
  <joint name="front_right_foot_joint" type="fixed">
    <parent link="front_right_lower_link"/>
    <child link="front_right_foot"/>
    <origin rpy="1.570796326795 0 0.6853981633975" xyz="0 -0.11 -0.009"/>
  </joint>
  <!-- kg -->
  <!-- Create the motor -->
  <link name="front_right_hip_motor">
    <inertial>
      <mass value="0.12"/>
      <inertia ixx="7.2e-6" ixy="0" ixz="0" iyy="1.11e-5" iyz="0" izz="1.11e-5"/>
    </inertial>
    <visual name="front_right_hip_visual">
      <material name="motorColor">
        <color rgba="0 1 0 1"/>
      </material>
      <geometry>
        <cylinder length="0.03" radius="0.012"/>
      </geometry>
    </visual>
    <collision name="front_right_hip_collision">
      <geometry>
        <cylinder length="0.03" radius="0.012"/>
      </geometry>
    </collision>
  </link>
  <!-- Rigidly attach to motor to it's parent -->
  <joint name="front_right_hip_fixed_joint" type="fixed">
    <parent link="bottom_PCB"/>
    <child link="front_right_hip_motor"/>
    <origin rpy="0 1.570796326795 0" xyz="0.091 -0.045 0.041"/>
  </joint>
  <!-- Attach the child link through a revolute joint -->
  <joint name="front_right_hip_joint" type="revolute">
    <parent link="bottom_PCB"/>
    <!-- <parent link = "${name}_motor"/> -->
    <child link="front_right_hub"/>
    <origin rpy="-1.570796326795 0 0" xyz="0.054 -0.045 0.041"/>
    <limit effort="1e6" lower="-1e10" upper="1e10" velocity="1e6"/>
    <dynamics damping="0.2" friction="0.3"/>
    <axis xyz="-1 0 0"/>
  </joint>
  <!-- implicitSpringDamper: prevent crashing when damping is set -->
  <!-- provideFeedback     : allows the joint to publish torque data -->
  <gazebo reference="front_right_hip_joint">
    <physics>
      <ode>
        <max_force>50</max_force>
      </ode>
    </physics>
    <provideFeedback>true</provideFeedback>
    <implicitSpringDamper>true</implicitSpringDamper>
  </gazebo>
  <gazebo reference="front_right_hub">
    <self_collide>false</self_collide>
  </gazebo>
  <!-- kg -->
  <!-- Create the motor -->
  <link name="front_right_shoulder_motor">
    <inertial>
      <mass value="0.12"/>
      <inertia ixx="7.2e-6" ixy="0" ixz="0" iyy="1.11e-5" iyz="0" izz="1.11e-5"/>
    </inertial>
    <visual name="front_right_shoulder_visual">
      <material name="motorColor">
        <color rgba="0 1 0 1"/>
      </material>
      <geometry>
        <cylinder length="0.03" radius="0.012"/>
      </geometry>
    </visual>
    <collision name="front_right_shoulder_collision">
      <geometry>
        <cylinder length="0.03" radius="0.012"/>
      </geometry>
    </collision>
  </link>
  <!-- Rigidly attach to motor to it's parent -->
  <joint name="front_right_shoulder_fixed_joint" type="fixed">
    <parent link="front_right_hub"/>
    <child link="front_right_shoulder_motor"/>
    <origin rpy="0 0 0" xyz="0 0 -0.005"/>
  </joint>
  <!-- Attach the child link through a revolute joint -->
  <joint name="front_right_shoulder_joint" type="revolute">
    <parent link="front_right_hub"/>
    <!-- <parent link = "${name}_motor"/> -->
    <child link="front_right_upper_link"/>
    <origin rpy="0 1.570796326795 0" xyz="0 0 -0.02"/>
    <limit effort="1e6" lower="-1e10" upper="1e10" velocity="1e6"/>
    <dynamics damping="0.2" friction="0.3"/>
    <axis xyz="1 0 0"/>
  </joint>
  <!-- implicitSpringDamper: prevent crashing when damping is set -->
  <!-- provideFeedback     : allows the joint to publish torque data -->
  <gazebo reference="front_right_shoulder_joint">
    <physics>
      <ode>
        <max_force>50</max_force>
      </ode>
    </physics>
    <provideFeedback>true</provideFeedback>
    <implicitSpringDamper>true</implicitSpringDamper>
  </gazebo>
  <gazebo reference="front_right_upper_link">
    <self_collide>false</self_collide>
  </gazebo>
  <!-- kg -->
  <!-- Create the motor -->
  <link name="front_right_elbow_motor">
    <inertial>
      <mass value="0.12"/>
      <inertia ixx="7.2e-6" ixy="0" ixz="0" iyy="1.11e-5" iyz="0" izz="1.11e-5"/>
    </inertial>
    <visual name="front_right_elbow_visual">
      <material name="motorColor">
        <color rgba="0 1 0 1"/>
      </material>
      <geometry>
        <cylinder length="0.03" radius="0.012"/>
      </geometry>
    </visual>
    <collision name="front_right_elbow_collision">
      <geometry>
        <cylinder length="0.03" radius="0.012"/>
      </geometry>
    </collision>
  </link>
  <!-- Rigidly attach to motor to it's parent -->
  <joint name="front_right_elbow_fixed_joint" type="fixed">
    <parent link="front_right_upper_link"/>
    <child link="front_right_elbow_motor"/>
    <origin rpy="0 1.570796326795 0" xyz="0.023 0.082 0"/>
  </joint>
  <!-- Attach the child link through a revolute joint -->
  <joint name="front_right_elbow_joint" type="revolute">
    <parent link="front_right_upper_link"/>
    <!-- <parent link = "${name}_motor"/> -->
    <child link="front_right_lower_link"/>
    <origin rpy="0 1.570796326795 3.14159265359" xyz="-0.006 0.08 0"/>
    <limit effort="1e6" lower="-1e10" upper="1e10" velocity="1e6"/>
    <dynamics damping="0.2" friction="0.3"/>
    <axis xyz="0 0 1"/>
  </joint>
  <!-- implicitSpringDamper: prevent crashing when damping is set -->
  <!-- provideFeedback     : allows the joint to publish torque data -->
  <gazebo reference="front_right_elbow_joint">
    <physics>
      <ode>
        <max_force>50</max_force>
      </ode>
    </physics>
    <provideFeedback>true</provideFeedback>
    <implicitSpringDamper>true</implicitSpringDamper>
  </gazebo>
  <gazebo reference="front_right_lower_link">
    <self_collide>false</self_collide>
  </gazebo>
  <link name="back_right_hub">
    <inertial>
      <mass value="0.0026397120000000002"/>
      <inertia ixx="5.418957480000001e-07" ixy="0.0" ixz="-1.6616942400000001e-07" iyy="5.47751772e-07" iyz="0.0" izz="4.2993230400000003e-07"/>
    </inertial>
    <visual name="back_right_hub_visual">
      <material name="blue"/>
      <geometry>
        <mesh filename="package://workstation/pupper_description/Pupper_STL/Leg/part1_hub_mirrored.stl" scale="0.001 0.001 0.001"/>
      </geometry>
    </visual>
    <collision name="back_right_hub_collision">
      <geometry>
        <mesh filename="package://workstation/pupper_description/Pupper_STL/Leg/part1_hub_mirrored_simplified.dae" scale="0.001 0.001 0.001"/>
      </geometry>
    </collision>
  </link>
  <link name="back_right_upper_link">
    <inertial>
      <mass value="0.005135088"/>
      <inertia ixx="5.2268046e-06" ixy="5.8305420000000006e-08" ixz="0.0" iyy="3.56244684e-07" iyz="0.0" izz="4.920666084e-06"/>
    </inertial>
    <visual name="back_right_upper_link_visual">
      <material name="yellow"/>
      <geometry>
        <mesh filename="package://workstation/pupper_description/Pupper_STL/Leg/part2_upperlink.stl" scale="0.001 0.001 0.001"/>
      </geometry>
    </visual>
    <collision name="back_right_upper_link_collision">
      <geometry>
        <mesh filename="package://workstation/pupper_description/Pupper_STL/Leg/part2_upperlink_simplified.dae" scale="0.001 0.001 0.001"/>
      </geometry>
    </collision>
  </link>
  <link name="back_right_cover">
    <inertial>
      <mass value="0.0023860080000000002"/>
      <inertia ixx="1.5880408440000002e-06" ixy="6.3907368e-08" ixz="2.604e-13" iyy="3.6889826400000003e-07" iyz="-8.928e-12" izz="1.4238727800000002e-06"/>
    </inertial>
    <visual name="back_right_cover_visual">
      <material name="red"/>
      <geometry>
        <mesh filename="package://workstation/pupper_description/Pupper_STL/Leg/part3_shroud.stl" scale="0.001 0.001 0.001"/>
      </geometry>
    </visual>
    <collision name="back_right_cover_collision">
      <geometry>
        <mesh filename="package://workstation/pupper_description/Pupper_STL/Leg/part3_shroud_simplified.dae" scale="0.001 0.001 0.001"/>
      </geometry>
    </collision>
  </link>
  <!-- Connect the covering to the upper link -->
  <joint name="back_right_shroud_to_leg" type="fixed">
    <parent link="back_right_upper_link"/>
    <child link="back_right_cover"/>
    <origin rpy="3.14159265359 0 0" xyz="0.007 0.085 0"/>
  </joint>
  <link name="back_right_lower_link">
    <inertial>
      <mass value="0.00489924"/>
      <inertia ixx="6.752526888e-06" ixy="-8.876552400000001e-08" ixz="-7.420284000000001e-09" iyy="1.6278868800000002e-07" iyz="-2.5021129200000004e-07" izz="6.810224088000001e-06"/>
    </inertial>
    <visual>
      <material name="blueGreen"/>
      <geometry>
        <mesh filename="package://workstation/pupper_description/Pupper_STL/Leg/part4_lowerlink_mirrored.stl" scale="0.001 0.001 0.001"/>
      </geometry>
    </visual>
    <collision name="back_right_lower_link_collision">
      <geometry>
        <mesh filename="package://workstation/pupper_description/Pupper_STL/Leg/part4_lowerlink_mirrored_simplified.dae" scale="0.001 0.001 0.001"/>
      </geometry>
    </collision>
  </link>
  <!-- Create the foot pad -->
  <link name="back_right_foot">
    <inertial>
      <mass value="0.003"/>
      <inertia ixx="1.0830000000000001e-07" ixy="0" ixz="0" iyy="1.0830000000000001e-07" iyz="0" izz="1.0830000000000001e-07"/>
    </inertial>
    <visual name="back_right_foot_visual">
      <material name="red"/>
      <geometry>
        <mesh filename="package://workstation/pupper_description/Pupper_STL/Leg/hemisphere.stl" scale="0.00026 0.00026 0.00026"/>
      </geometry>
    </visual>
    <collision name="back_right_foot_collision">
      <geometry>
        <mesh filename="package://workstation/pupper_description/Pupper_STL/Leg/hemisphere_simplified.dae" scale="0.00026 0.00026 0.00026"/>
      </geometry>
    </collision>
  </link>
  <gazebo reference="back_right_foot">
    <collision>
      <surface>
        <contact>
          <ode>
            <kp>1e15</kp>
            <kd>1e13</kd>
          </ode>
        </contact>
      </surface>
    </collision>
  </gazebo>
  <gazebo reference="back_right_lower_link">
    <collision>
      <surface>
        <contact>
          <ode>
            <min_depth>0.01</min_depth>
          </ode>
        </contact>
      </surface>
    </collision>
  </gazebo>
  <!-- Connect foot pad to lower link -->
  <joint name="back_right_foot_joint" type="fixed">
    <parent link="back_right_lower_link"/>
    <child link="back_right_foot"/>
    <origin rpy="1.570796326795 0 0.6853981633975" xyz="0 -0.11 -0.009"/>
  </joint>
  <!-- kg -->
  <!-- Create the motor -->
  <link name="back_right_hip_motor">
    <inertial>
      <mass value="0.12"/>
      <inertia ixx="7.2e-6" ixy="0" ixz="0" iyy="1.11e-5" iyz="0" izz="1.11e-5"/>
    </inertial>
    <visual name="back_right_hip_visual">
      <material name="motorColor">
        <color rgba="0 1 0 1"/>
      </material>
      <geometry>
        <cylinder length="0.03" radius="0.012"/>
      </geometry>
    </visual>
    <collision name="back_right_hip_collision">
      <geometry>
        <cylinder length="0.03" radius="0.012"/>
      </geometry>
    </collision>
  </link>
  <!-- Rigidly attach to motor to it's parent -->
  <joint name="back_right_hip_fixed_joint" type="fixed">
    <parent link="bottom_PCB"/>
    <child link="back_right_hip_motor"/>
    <origin rpy="4.7123889803850005 0 1.570796326795" xyz="-0.110 -0.045 0.041"/>
  </joint>
  <!-- Attach the child link through a revolute joint -->
  <joint name="back_right_hip_joint" type="revolute">
    <parent link="bottom_PCB"/>
    <!-- <parent link = "${name}_motor"/> -->
    <child link="back_right_hub"/>
    <origin rpy="-1.570796326795 0 0" xyz="-0.147 -0.045 0.041"/>
    <limit effort="1e6" lower="-1e10" upper="1e10" velocity="1e6"/>
    <dynamics damping="0.2" friction="0.3"/>
    <axis xyz="-1 0 0"/>
  </joint>
  <!-- implicitSpringDamper: prevent crashing when damping is set -->
  <!-- provideFeedback     : allows the joint to publish torque data -->
  <gazebo reference="back_right_hip_joint">
    <physics>
      <ode>
        <max_force>50</max_force>
      </ode>
    </physics>
    <provideFeedback>true</provideFeedback>
    <implicitSpringDamper>true</implicitSpringDamper>
  </gazebo>
  <gazebo reference="back_right_hub">
    <self_collide>false</self_collide>
  </gazebo>
  <!-- kg -->
  <!-- Create the motor -->
  <link name="back_right_shoulder_motor">
    <inertial>
      <mass value="0.12"/>
      <inertia ixx="7.2e-6" ixy="0" ixz="0" iyy="1.11e-5" iyz="0" izz="1.11e-5"/>
    </inertial>
    <visual name="back_right_shoulder_visual">
      <material name="motorColor">
        <color rgba="0 1 0 1"/>
      </material>
      <geometry>
        <cylinder length="0.03" radius="0.012"/>
      </geometry>
    </visual>
    <collision name="back_right_shoulder_collision">
      <geometry>
        <cylinder length="0.03" radius="0.012"/>
      </geometry>
    </collision>
  </link>
  <!-- Rigidly attach to motor to it's parent -->
  <joint name="back_right_shoulder_fixed_joint" type="fixed">
    <parent link="back_right_hub"/>
    <child link="back_right_shoulder_motor"/>
    <origin rpy="0 0 0" xyz="0 0 -0.005"/>
  </joint>
  <!-- Attach the child link through a revolute joint -->
  <joint name="back_right_shoulder_joint" type="revolute">
    <parent link="back_right_hub"/>
    <!-- <parent link = "${name}_motor"/> -->
    <child link="back_right_upper_link"/>
    <origin rpy="0 1.570796326795 0" xyz="0 0 -0.02"/>
    <limit effort="1e6" lower="-1e10" upper="1e10" velocity="1e6"/>
    <dynamics damping="0.2" friction="0.3"/>
    <axis xyz="1 0 0"/>
  </joint>
  <!-- implicitSpringDamper: prevent crashing when damping is set -->
  <!-- provideFeedback     : allows the joint to publish torque data -->
  <gazebo reference="back_right_shoulder_joint">
    <physics>
      <ode>
        <max_force>50</max_force>
      </ode>
    </physics>
    <provideFeedback>true</provideFeedback>
    <implicitSpringDamper>true</implicitSpringDamper>
  </gazebo>
  <gazebo reference="back_right_upper_link">
    <self_collide>false</self_collide>
  </gazebo>
  <!-- kg -->
  <!-- Create the motor -->
  <link name="back_right_elbow_motor">
    <inertial>
      <mass value="0.12"/>
      <inertia ixx="7.2e-6" ixy="0" ixz="0" iyy="1.11e-5" iyz="0" izz="1.11e-5"/>
    </inertial>
    <visual name="back_right_elbow_visual">
      <material name="motorColor">
        <color rgba="0 1 0 1"/>
      </material>
      <geometry>
        <cylinder length="0.03" radius="0.012"/>
      </geometry>
    </visual>
    <collision name="back_right_elbow_collision">
      <geometry>
        <cylinder length="0.03" radius="0.012"/>
      </geometry>
    </collision>
  </link>
  <!-- Rigidly attach to motor to it's parent -->
  <joint name="back_right_elbow_fixed_joint" type="fixed">
    <parent link="back_right_upper_link"/>
    <child link="back_right_elbow_motor"/>
    <origin rpy="0 1.570796326795 0" xyz="0.023 0.082 0"/>
  </joint>
  <!-- Attach the child link through a revolute joint -->
  <joint name="back_right_elbow_joint" type="revolute">
    <parent link="back_right_upper_link"/>
    <!-- <parent link = "${name}_motor"/> -->
    <child link="back_right_lower_link"/>
    <origin rpy="0 1.570796326795 3.14159265359" xyz="-0.006 0.08 0"/>
    <limit effort="1e6" lower="-1e10" upper="1e10" velocity="1e6"/>
    <dynamics damping="0.2" friction="0.3"/>
    <axis xyz="0 0 1"/>
  </joint>
  <!-- implicitSpringDamper: prevent crashing when damping is set -->
  <!-- provideFeedback     : allows the joint to publish torque data -->
  <gazebo reference="back_right_elbow_joint">
    <physics>
      <ode>
        <max_force>50</max_force>
      </ode>
    </physics>
    <provideFeedback>true</provideFeedback>
    <implicitSpringDamper>true</implicitSpringDamper>
  </gazebo>
  <gazebo reference="back_right_lower_link">
    <self_collide>false</self_collide>
  </gazebo>
</robot>
